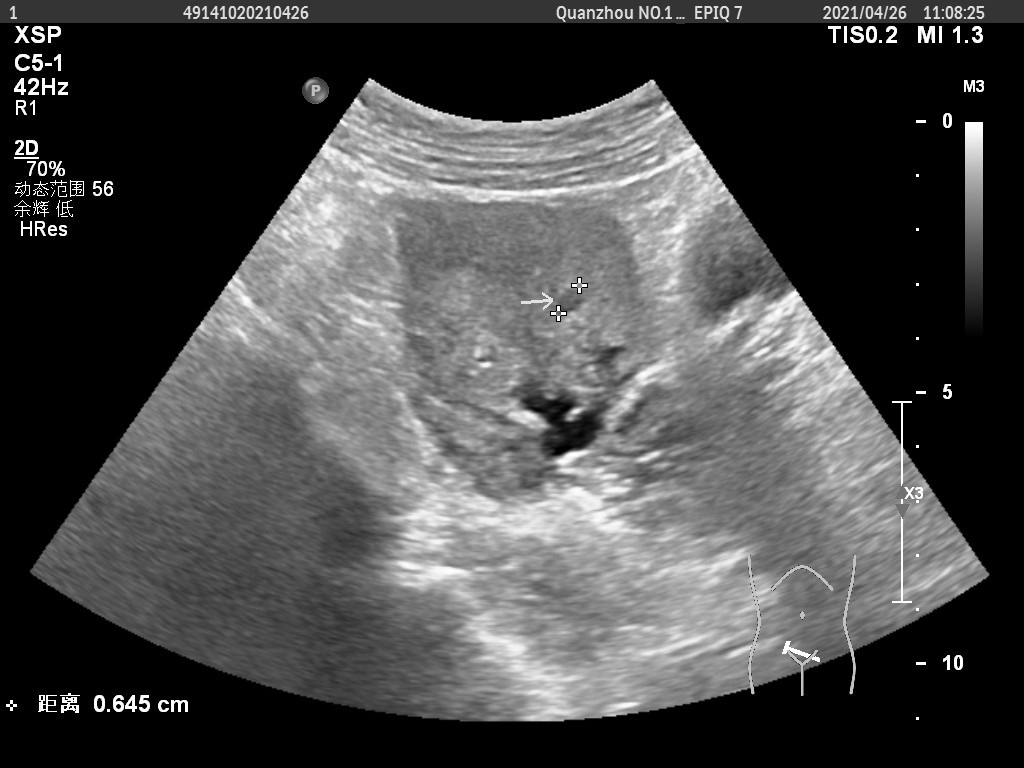肌瘤: (555, 285, 581, 322)
